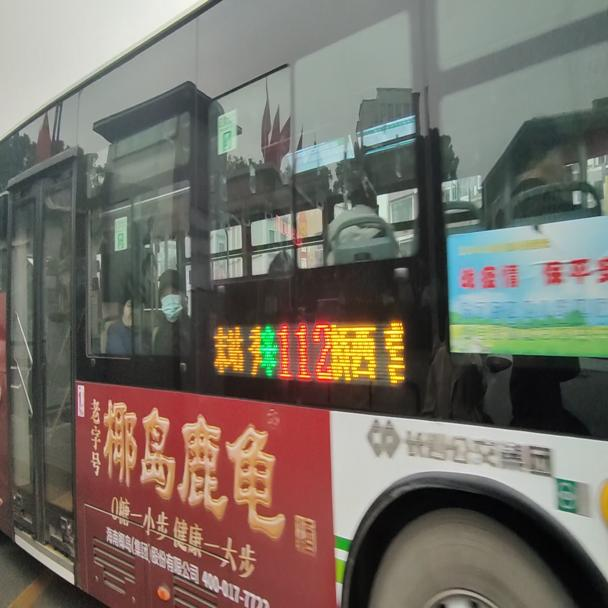screen: (273, 322, 329, 387)
